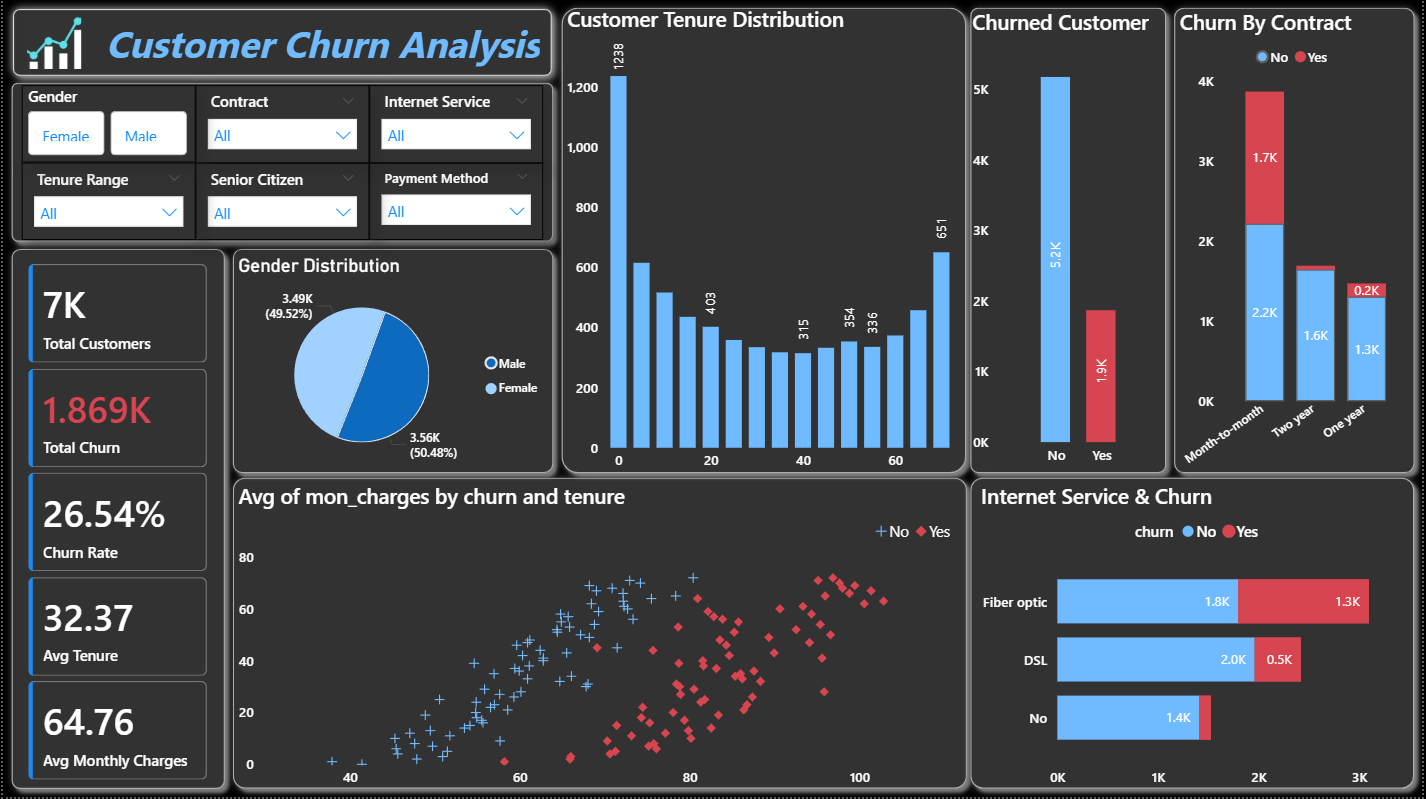

This screenshot's page, from the dashboard's own definition file:
{"tool":"powerbi","page":{"name":"Page 1","canvas":[1280,720],"ordinal":0},"visuals":[{"type":"shape","box":[0,68,503.8,159],"z":0},{"type":"shape","box":[199.3,424.3,677.4,295.9],"z":1000},{"type":"shape","box":[0,217.7,207.9,502.6],"z":2000},{"type":"shape","box":[496.5,0,380.3,435.3],"z":3000},{"type":"shape","box":[1048,0,232.3,435.3],"z":4000},{"type":"shape","box":[864.5,0,192,435.3],"z":5000},{"type":"shape","box":[864.5,424.3,415.8,295.9],"z":6000},{"type":"shape","box":[199.3,217.7,304.5,217.7],"z":7000},{"type":"clusteredColumnChart","title":"Churned Customer ","fields":{"Category":["Cleaned_Telco_Customer_Churn.churn"],"Y":["CountNonNull(Cleaned_Telco_Customer_Churn.customer_id)"]},"box":[869.4,7.3,178.5,421.9],"z":8000},{"type":"pieChart","title":"Gender Distribution","fields":{"Category":["Cleaned_Telco_Customer_Churn.gender"],"Y":["CountNonNull(Cleaned_Telco_Customer_Churn.customer_id)"]},"box":[207.9,229.9,288.6,199.3],"z":9000},{"type":"barChart","title":"Internet Service & Churn","fields":{"Category":["Cleaned_Telco_Customer_Churn.internet_service"],"Series":["Cleaned_Telco_Customer_Churn.churn"],"Y":["CountNonNull(Cleaned_Telco_Customer_Churn.customer_id)"]},"box":[876.8,435.3,403.5,284.9],"z":10000},{"type":"shape","box":[0,0,503.8,78.3],"z":11000},{"type":"cardVisual","fields":{"Data":["Cleaned_Telco_Customer_Churn.Total Customers","Cleaned_Telco_Customer_Churn.Total Churn","Cleaned_Telco_Customer_Churn.Churn Rate","Cleaned_Telco_Customer_Churn.Avg Tenure","Cleaned_Telco_Customer_Churn.Avg Monthly Charges"]},"box":[18.3,238.5,171.2,468.3],"z":12000},{"type":"columnChart","title":"Customer Tenure Distribution","fields":{"Category":["Cleaned_Telco_Customer_Churn.tenure (bins)"],"Y":["CountNonNull(Cleaned_Telco_Customer_Churn.customer_id)"]},"box":[503.8,6.1,355.8,429.2],"z":13000},{"type":"columnChart","title":"Churn By Contract","fields":{"Category":["Cleaned_Telco_Customer_Churn.contract"],"Series":["Cleaned_Telco_Customer_Churn.churn"],"Y":["CountNonNull(Cleaned_Telco_Customer_Churn.customer_id)"]},"box":[1056.5,7.3,216.4,421.9],"z":14000},{"type":"scatterChart","title":"Avg of mon_charges by churn and tenure","fields":{"X":["Avg(Cleaned_Telco_Customer_Churn.monthly_charges)"],"Y":["Cleaned_Telco_Customer_Churn.tenure"],"Series":["Cleaned_Telco_Customer_Churn.churn"]},"box":[207.9,435.3,656.7,284.9],"z":15000},{"type":"slicer","fields":{"Values":["Cleaned_Telco_Customer_Churn.contract"]},"box":[173.6,78.3,156.5,70],"z":16000},{"type":"slicer","fields":{"Values":["Cleaned_Telco_Customer_Churn.internet_service"]},"box":[330.2,78.3,156.5,70],"z":17000},{"type":"slicer","fields":{"Values":["Cleaned_Telco_Customer_Churn.payment_method"]},"box":[330.2,148,156.5,69.7],"z":18000},{"type":"slicer","fields":{"Values":["Cleaned_Telco_Customer_Churn.senior_citizen"]},"box":[173.6,148,156.5,69.7],"z":19000},{"type":"slicer","fields":{"Values":["Cleaned_Telco_Customer_Churn.tenure (bins)"]},"box":[17.1,148,156.5,69.7],"z":20000},{"type":"advancedSlicerVisual","title":"Gender","fields":{"Values":["Cleaned_Telco_Customer_Churn.gender"]},"box":[17.1,78.3,156.5,69.7],"z":21000},{"type":"image","box":[17.1,7.3,58.7,61.1],"z":21001}]}

Visuals, with their boxes in screenshot pixels (x1, y1, x2, y2), scaled from the page's 1280x720 canvas onto the 1426x799 screenshot:
shape: 0 75 561 252
shape: 222 471 977 798
shape: 0 242 232 798
shape: 553 0 977 483
shape: 1168 0 1425 483
shape: 963 0 1177 483
shape: 963 471 1425 798
shape: 222 242 561 483
"Churned Customer " clusteredColumnChart: 969 8 1167 476
"Gender Distribution" pieChart: 232 255 553 476
"Internet Service & Churn" barChart: 977 483 1425 798
shape: 0 0 561 87
cardVisual - Cleaned_Telco_Customer_Churn.Total Customers x Cleaned_Telco_Customer_Churn.Total Churn: 20 265 211 784
"Customer Tenure Distribution" columnChart: 561 7 958 483
"Churn By Contract" columnChart: 1177 8 1418 476
"Avg of mon_charges by churn and tenure" scatterChart: 232 483 963 798
slicer - Cleaned_Telco_Customer_Churn.contract: 193 87 368 165
slicer - Cleaned_Telco_Customer_Churn.internet_service: 368 87 542 165
slicer - Cleaned_Telco_Customer_Churn.payment_method: 368 164 542 242
slicer - Cleaned_Telco_Customer_Churn.senior_citizen: 193 164 368 242
slicer - Cleaned_Telco_Customer_Churn.tenure (bins): 19 164 193 242
"Gender" advancedSlicerVisual: 19 87 193 164
image: 19 8 84 76
